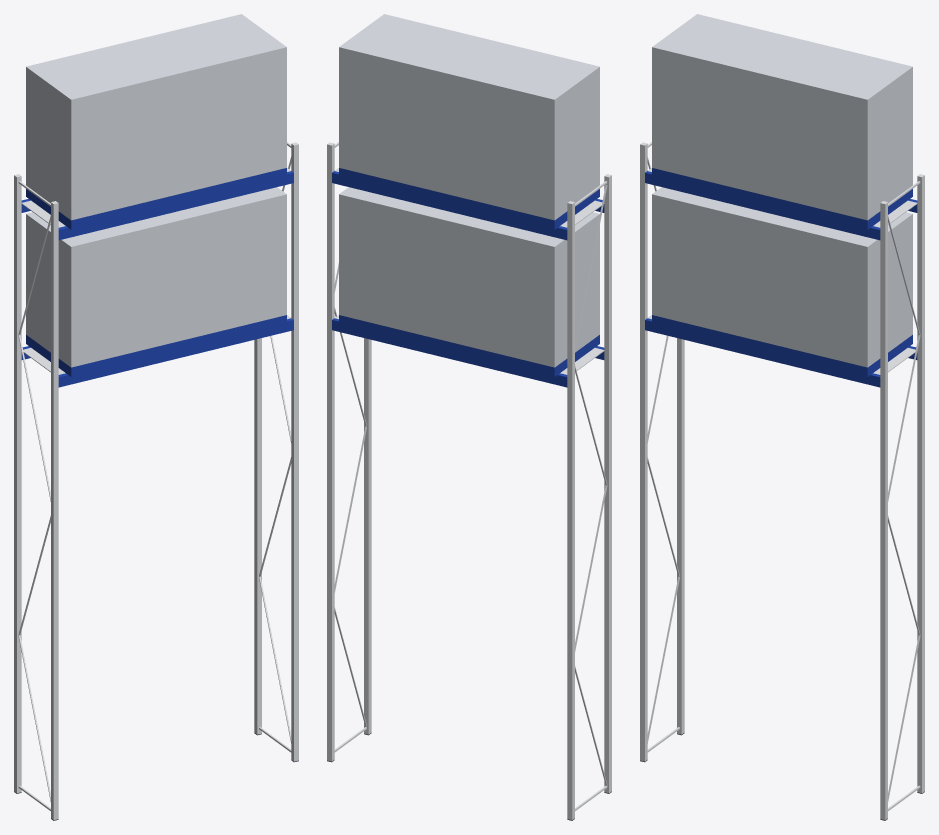
File: SM_MPR_CADRack_F7_W144_Passage_LOD2.fbx
3 views of the same model, side by side, from view 1: azimuth 30°, elevation 25°; view 2: azimuth 150°, elevation 25°; view 3: azimuth 330°, elevation 25° (orthographic).
Visible parts, largest first — view 1: SM_MPR_CADRack_F7_W144_Passage_LOD2; view 2: SM_MPR_CADRack_F7_W144_Passage_LOD2; view 3: SM_MPR_CADRack_F7_W144_Passage_LOD2.
Boxes of the visible parts, x1,y1,x2,y2 form: SM_MPR_CADRack_F7_W144_Passage_LOD2: [14, 14, 298, 820]; SM_MPR_CADRack_F7_W144_Passage_LOD2: [327, 14, 611, 820]; SM_MPR_CADRack_F7_W144_Passage_LOD2: [640, 14, 924, 820].
Bounding box in the file's own units: 381 × 122 × 1068.
